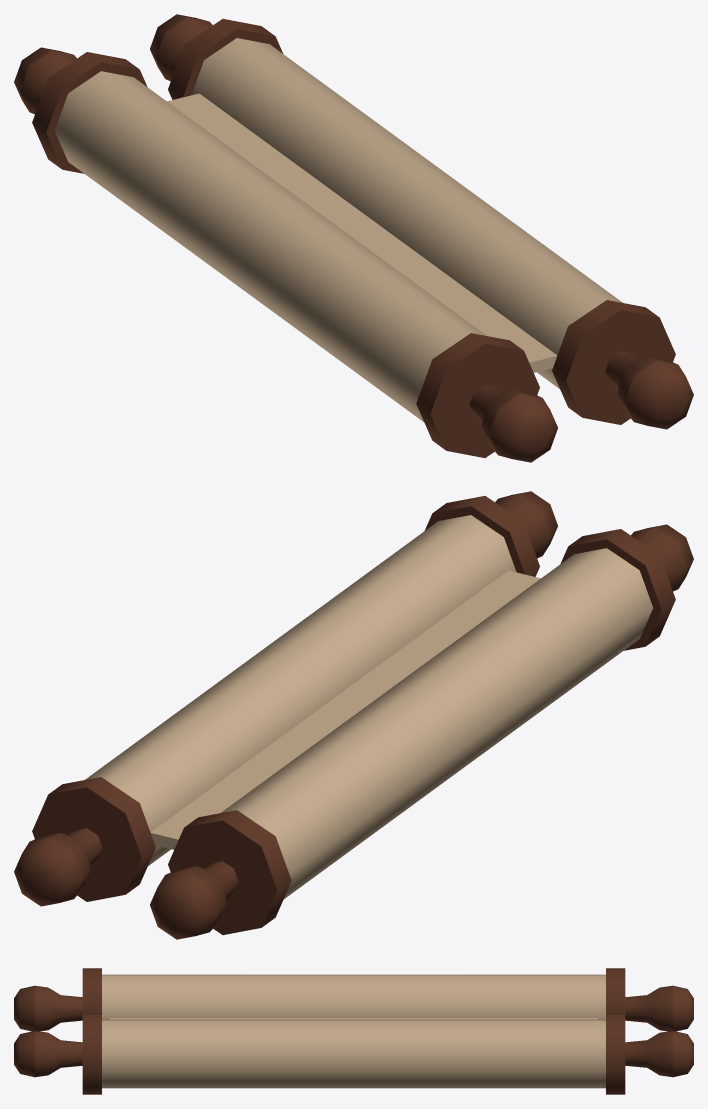
Rendered from Scroll_01_Closed.fbx.
3 renders of one model, top to bottom at view 1: azimuth 30°, elevation 25°; view 2: azimuth 150°, elevation 25°; view 3: azimuth 270°, elevation 25°, orthographic. The views are drawn at different scales.
Visible parts, largest first — view 1: Scroll_01_Closed; view 2: Scroll_01_Closed; view 3: Scroll_01_Closed.
Part boxes in pixels (x1,y1,x2,y2): Scroll_01_Closed: (14, 14, 693, 462); Scroll_01_Closed: (14, 491, 693, 939); Scroll_01_Closed: (14, 968, 693, 1094).
Bounding box in the file's own units: 0.1124 × 0.0502 × 0.3958.
